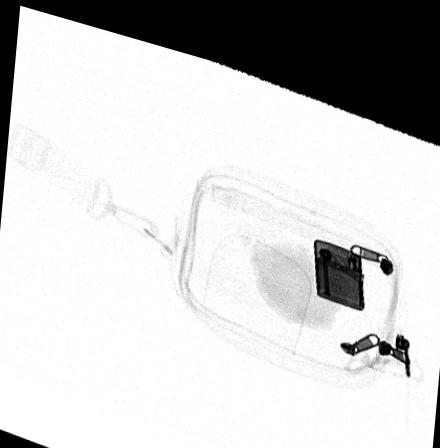Lighter: (311, 219, 364, 289)
